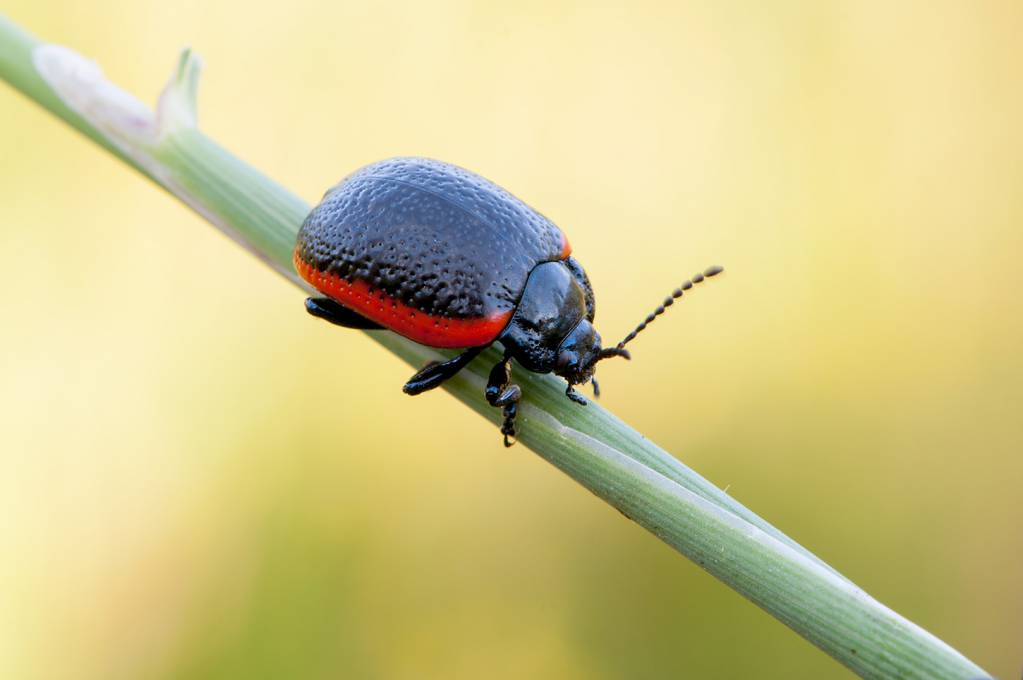Chrysolina_gypsophila: (296, 141, 727, 456)
